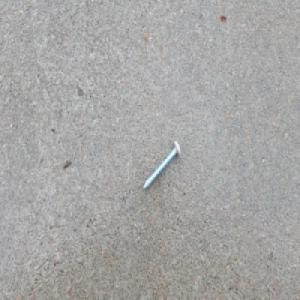Nail: (140, 137, 180, 191)
